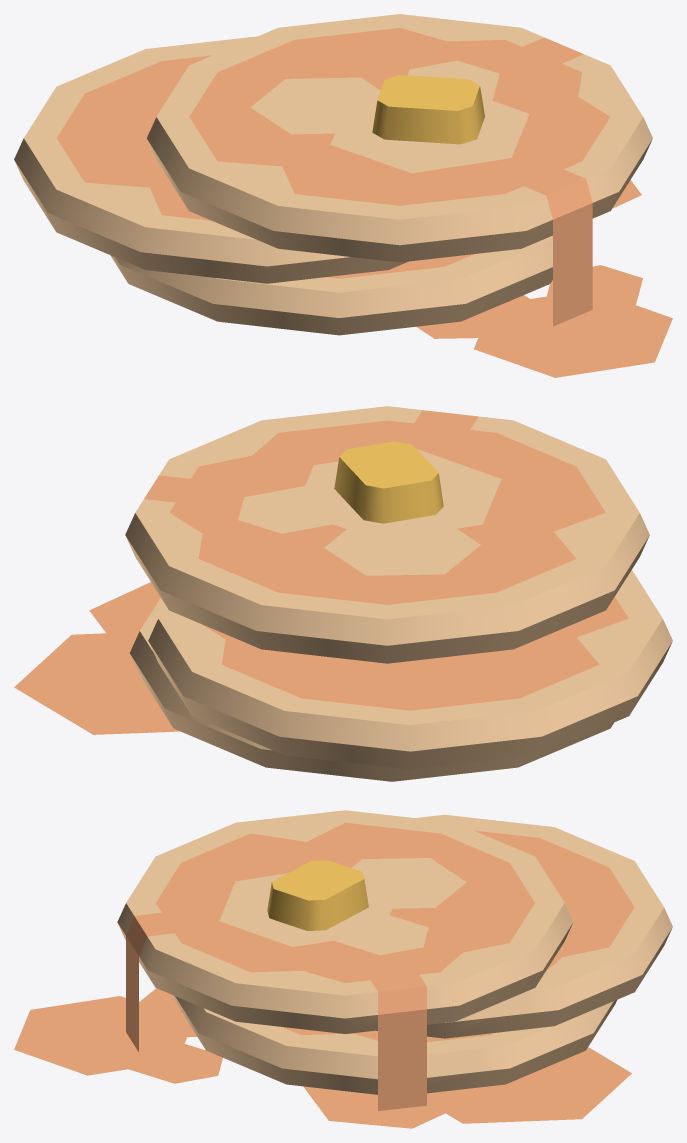
File: Pancakes.glb
3 views of the same model, one above another, from view 1: azimuth 30°, elevation 25°; view 2: azimuth 150°, elevation 25°; view 3: azimuth 270°, elevation 25° (orthographic). The views are drawn at different scales.
Parts seen in each view (by area): view 1: pancake_1, pancake, pancake_2, pancakes, butter; view 2: pancake_1, pancake, pancakes, pancake_2, butter; view 3: pancake_1, pancakes, pancake, pancake_2, butter.
Part boxes in pixels (x1,y1,x2,y2): pancake_1: [146, 14, 652, 326]; pancake: [14, 36, 407, 283]; pancake_2: [110, 235, 552, 335]; pancakes: [416, 180, 672, 377]; butter: [372, 75, 484, 144]; pancake_1: [125, 406, 649, 663]; pancake: [148, 570, 672, 769]; pancakes: [14, 582, 180, 734]; pancake_2: [130, 598, 613, 781]; butter: [334, 441, 443, 523]; pancake_1: [117, 810, 573, 1110]; pancakes: [14, 988, 631, 1128]; pancake: [376, 814, 672, 1038]; pancake_2: [172, 995, 616, 1094]; butter: [267, 860, 368, 930].
Bounding box in the file's own units: 0.4355 × 0.1216 × 0.5039.
